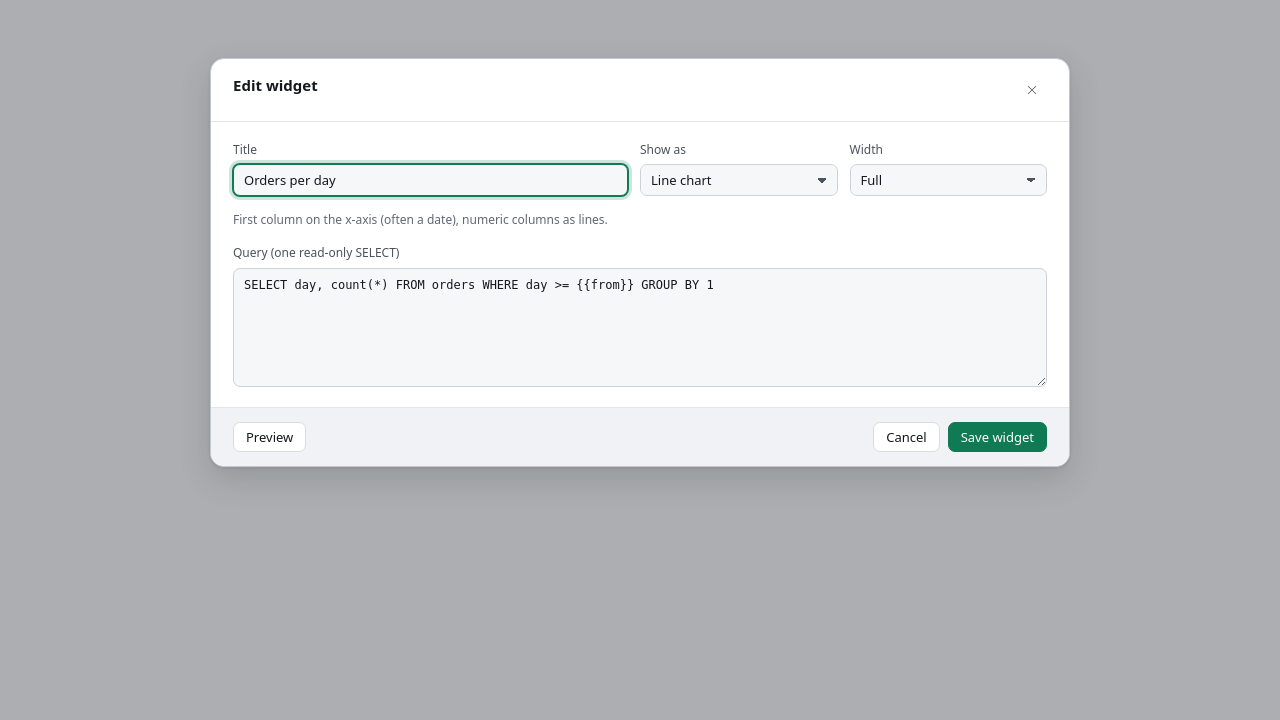
Scenario: WidgetEditor › previews the query in a read-only widget run, sending only the parameters it uses
What coordinates should you click on to do the following:
click the button "Preview"
I would click on:
 (270, 437)
Its box is [233,422,306,452].
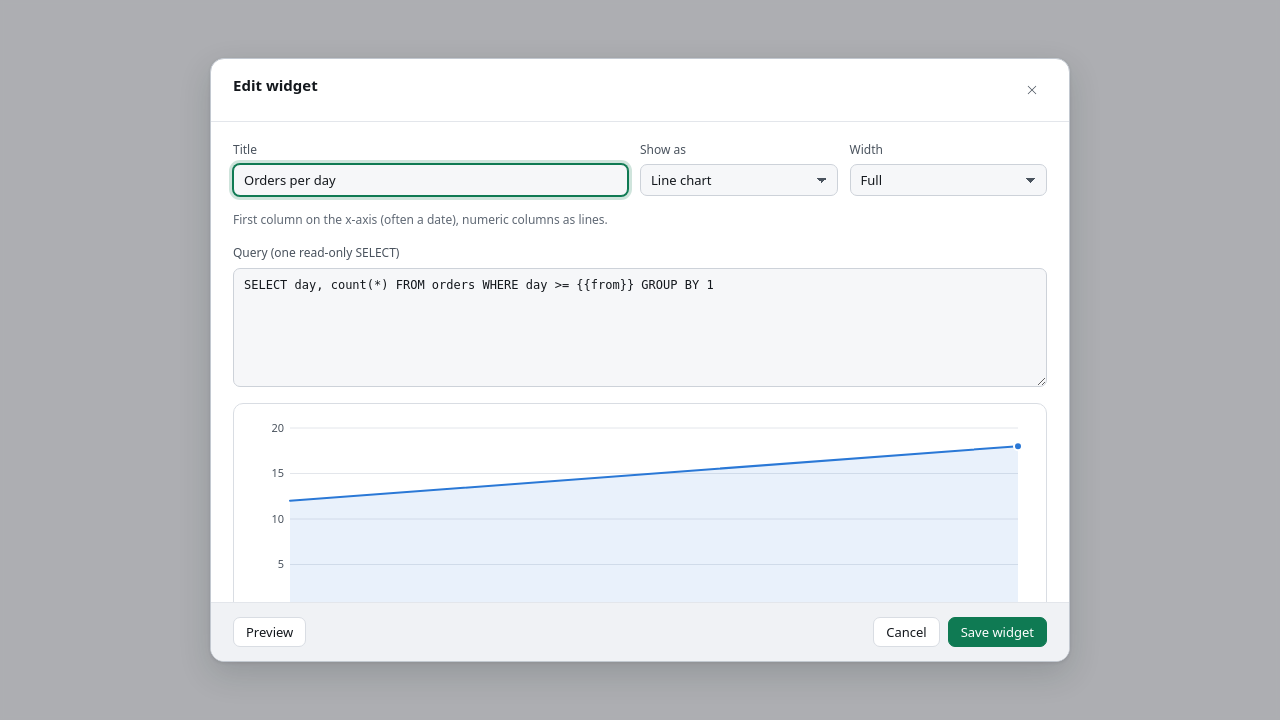
Check: the picture named "Line chart of orders" is shown, box [246,416,1034,602]
